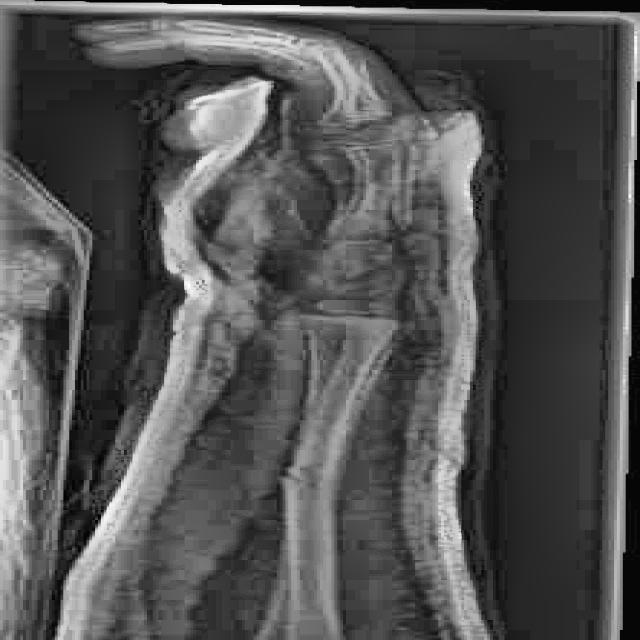forearm fracture: (250, 447, 338, 526)
